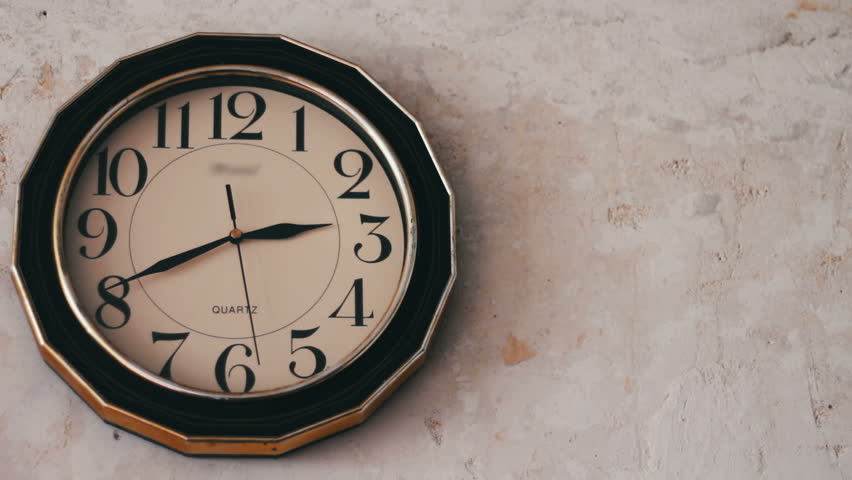clock: (64, 84, 415, 400)
